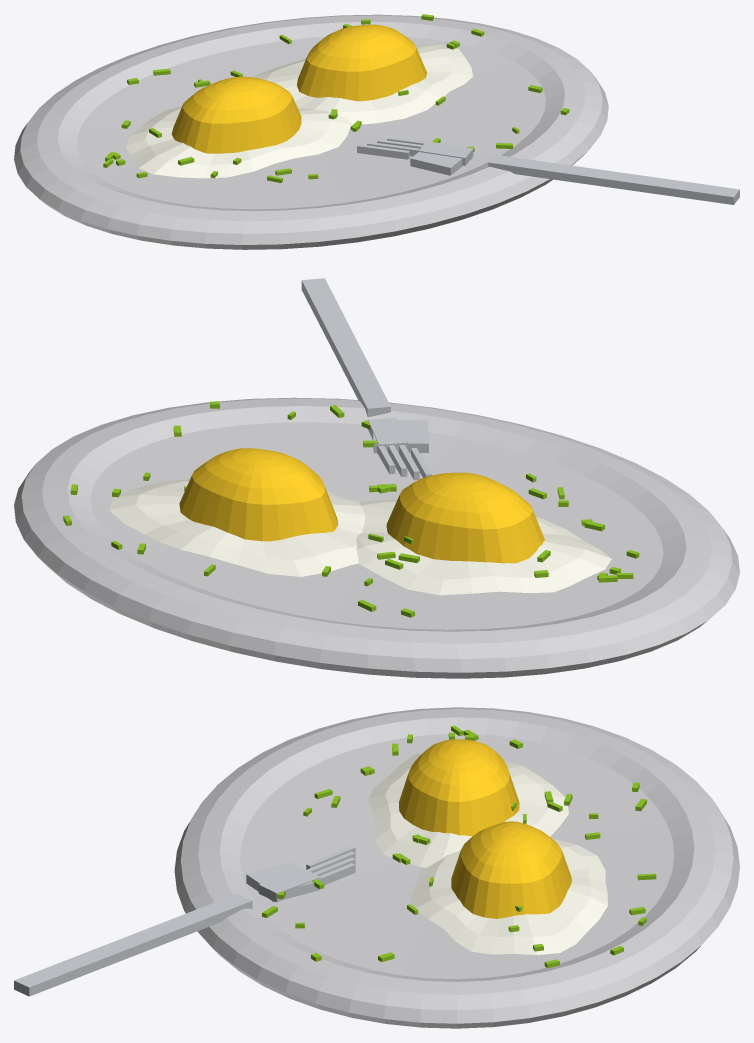
Rendered from telur ceplok.fbx.
3 renders of one model, top to bottom at view 1: azimuth 30°, elevation 25°; view 2: azimuth 150°, elevation 25°; view 3: azimuth 270°, elevation 25°, orthographic. The views are drawn at different scales.
Visible parts, largest first — view 1: telur_ceplok_low_poly; view 2: telur_ceplok_low_poly; view 3: telur_ceplok_low_poly.
Part boxes in pixels (x1=…): telur_ceplok_low_poly: x1=14, y1=14, x2=739, y2=249; telur_ceplok_low_poly: x1=14, y1=278, x2=739, y2=678; telur_ceplok_low_poly: x1=14, y1=707, x2=739, y2=1028.
Bounding box in the file's own units: 580 × 83.83 × 575.
